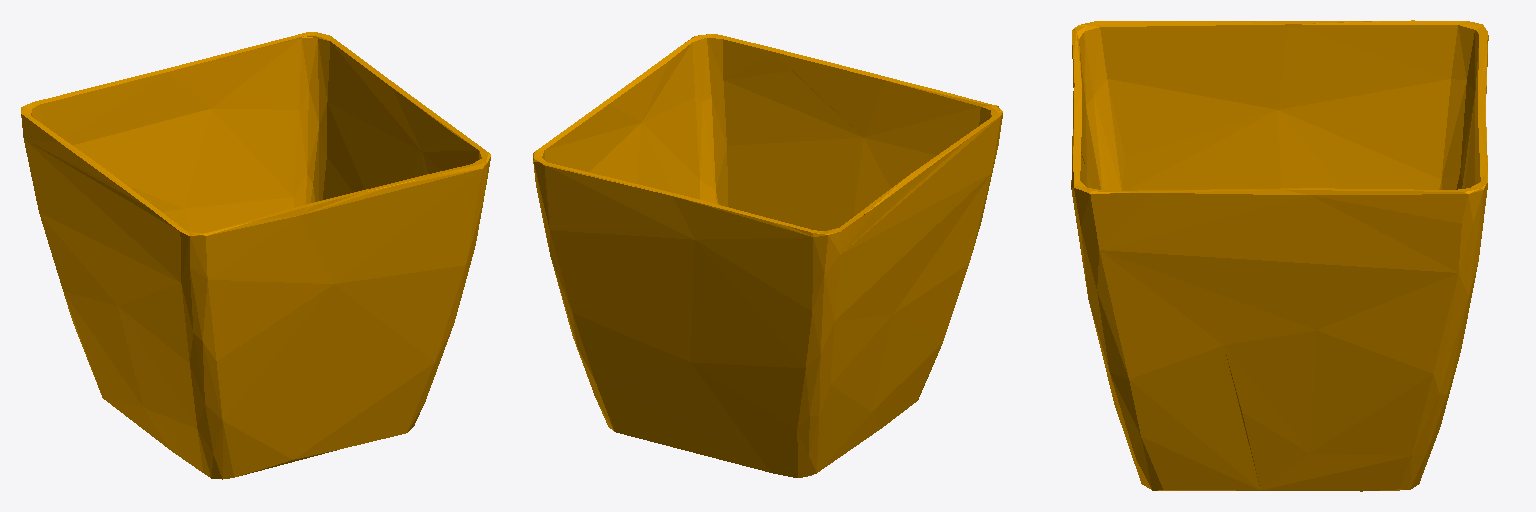
robot.urdf — EcoformsPlantContainerQuadraSandQP6:
<robot name="EcoformsPlantContainerQuadraSandQP6">
    <link name="base_link">
        <contact>
            <lateral_friction value="1.0" />
            <inertia_scaling value="3.0" />
        </contact>
        <inertial>
            <origin rpy="0 0 0" xyz="0 0 0" />
            <mass value="0.28980497703101377" />
            <inertia ixx="1" ixy="0" ixz="0" iyy="1" iyz="0" izz="1" />
        </inertial>
        <visual>
            <origin rpy="0 0 0" xyz="0 0 0" />
            <geometry>
                <mesh filename="model_2eZY2JqYPQE.obj" rpy="0 0 0" />
            </geometry>
        </visual>
        <collision>
            <origin rpy="0 0 0" xyz="0 0 0" />
            <geometry>
                <mesh filename="model_2eZY2JqYPQE_vhacd.obj" rpy="0 0 0" />
            </geometry>
        </collision>
    </link>
</robot>

--- Render facts (derived) ---
3 views of the same robot in one strip: view 1: azimuth 30°, elevation 25°; view 2: azimuth 150°, elevation 25°; view 3: azimuth 270°, elevation 25° (orthographic).
Robot: EcoformsPlantContainerQuadraSandQP6 — 1 links, 0 joints (none); root link base_link; default pose: every joint at zero.
Visible links, largest first — view 1: base_link; view 2: base_link; view 3: base_link.
Link boxes in pixels (bbox=[...]): base_link: bbox=[21, 32, 490, 479]; base_link: bbox=[533, 34, 1002, 477]; base_link: bbox=[1071, 20, 1488, 491].
Bounding box of the posed robot: 0.1901 × 0.1904 × 0.1688 m (x, y, z).
Meshes: 1 distinct files referenced, 1 mesh visuals loaded (1 OBJ).
